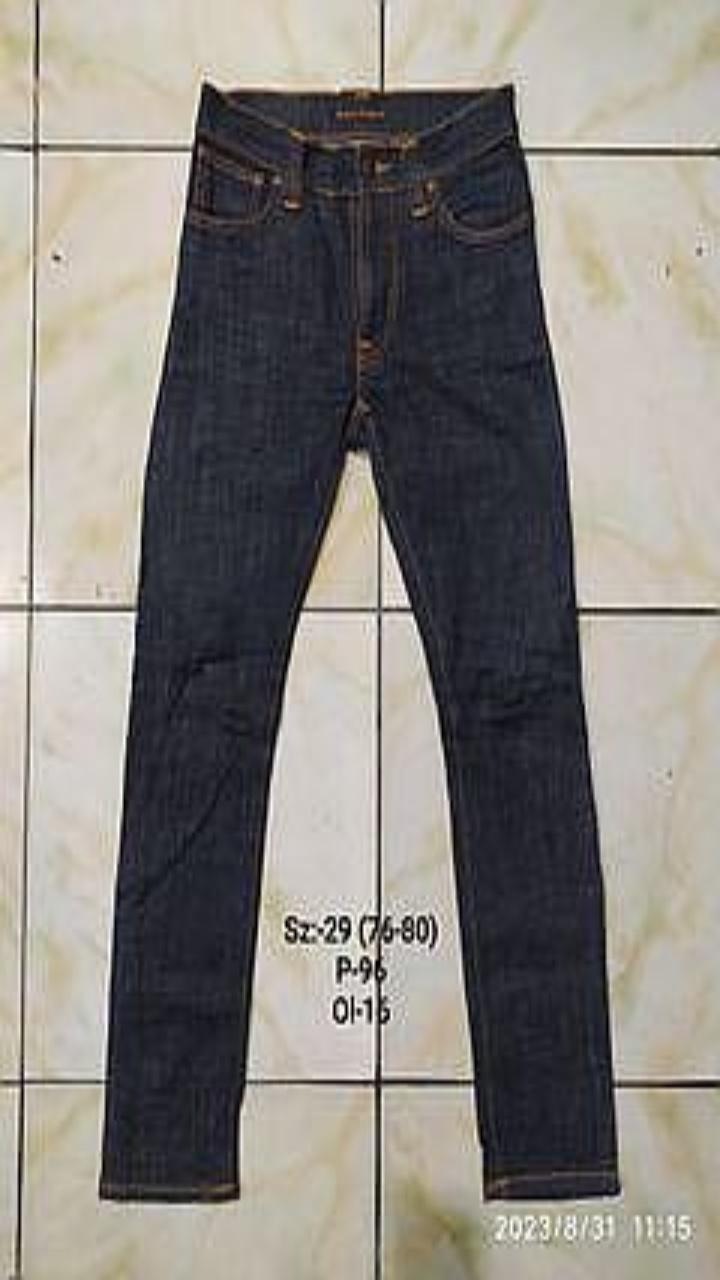Jeans: (99, 80, 619, 1200)
